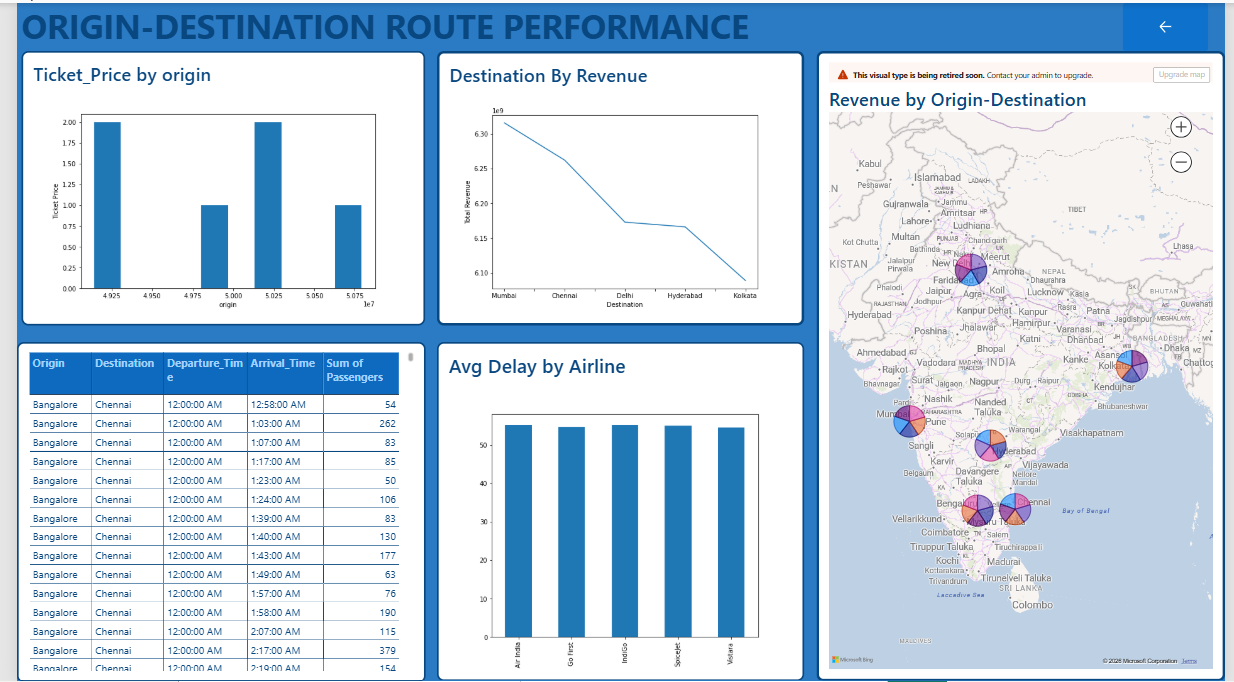

What the dashboard file says about the page in this screenshot:
{"tool":"powerbi","page":{"name":"origin-destination route performance","canvas":[1920,1080],"ordinal":1},"visuals":[{"type":"pythonVisual","title":" Ticket_Price by origin","fields":{"Values":["dataset.Origin","dataset.Ticket_Price"]},"box":[7.9,76.3,642.1,436.8],"z":0},{"type":"pythonVisual","title":"Avg Delay by Airline","fields":{"Values":["dataset.Airline","dataset.Delay_Minutes"]},"box":[668.4,539.5,584.2,539.5],"z":1000},{"type":"tableEx","fields":{"Values":["dataset.Origin","dataset.Destination","dataset.Departure_Time","dataset.Arrival_Time","Sum(dataset.Passengers)"]},"box":[0,539.5,650,542.1],"z":2000},{"type":"pythonVisual","title":"Destination By Revenue","fields":{"Values":["dataset.Destination","dataset.Revenue"]},"box":[668.4,76.3,584.2,436.8],"z":3000},{"type":"map","title":"Revenue by Origin-Destination","fields":{"Category":["dataset.Origin"],"Series":["dataset.Destination"],"Size":["Sum(dataset.Revenue)"]},"box":[1271.1,76.3,650,1002.6],"z":4000},{"type":"textbox","box":[7.9,0,1913.2,76.3],"z":5000},{"type":"actionButton","box":[1757.9,0,136.8,76.3],"z":6000}]}

Visuals, with their boxes in screenshot pixels (x1, y1, x2, y2), scaled from the page's 1920x1080 canvas onto the 1234x682 screenshot:
" Ticket_Price by origin" pythonVisual: box=[5, 48, 418, 324]
"Avg Delay by Airline" pythonVisual: box=[430, 341, 805, 681]
tableEx - dataset.Origin x dataset.Destination: box=[0, 341, 418, 681]
"Destination By Revenue" pythonVisual: box=[430, 48, 805, 324]
"Revenue by Origin-Destination" map: box=[817, 48, 1233, 681]
textbox: box=[5, 0, 1233, 48]
actionButton: box=[1130, 0, 1218, 48]
